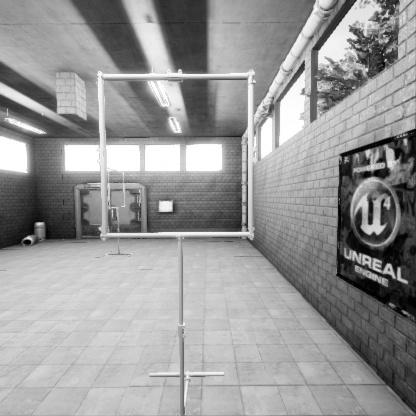gate: (99, 183, 268, 353), (107, 208, 125, 250)
